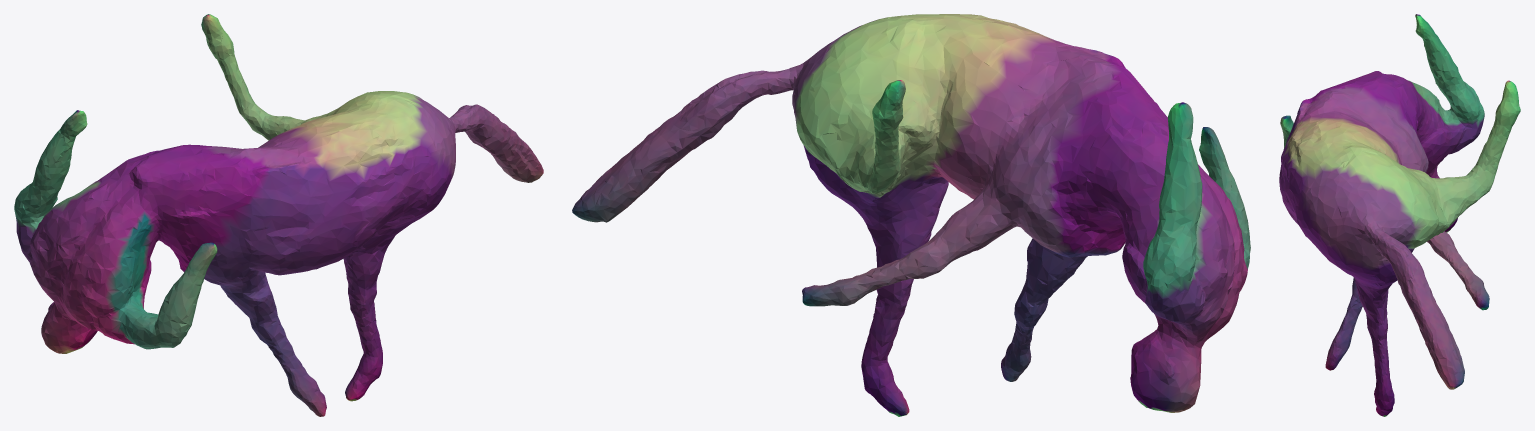
Rendered from centaur-18.off.obj.
The picture shows the model from 3 angles, left to right: view 1: azimuth 30°, elevation 25°; view 2: azimuth 150°, elevation 25°; view 3: azimuth 270°, elevation 25°; orthographic projection. The views are drawn at different scales.
Bounding box in the file's own units: 1.39 × 0.8862 × 0.6393.
